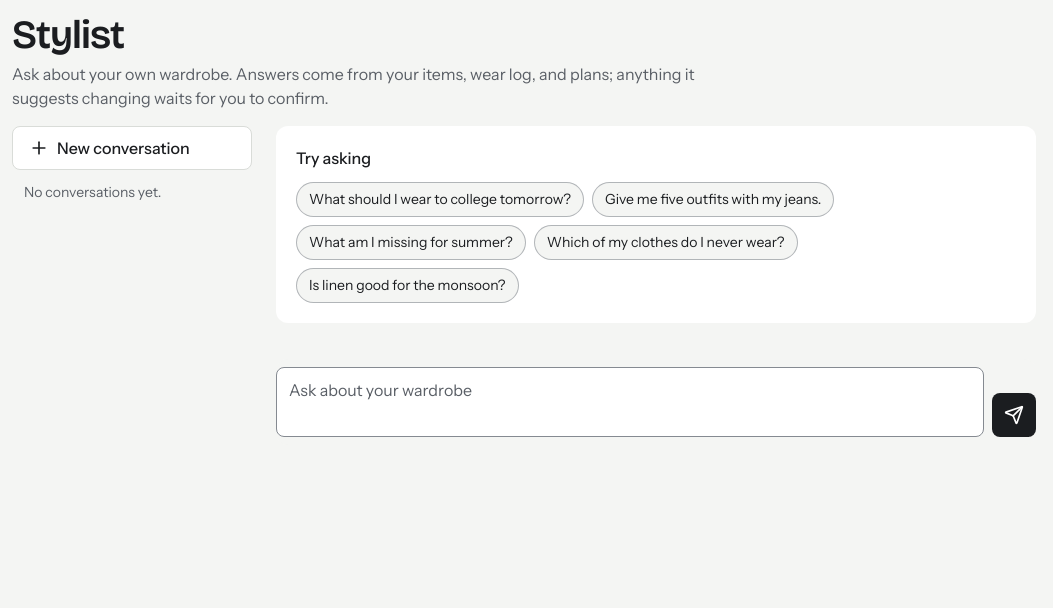
Scenario: asks, shows the answer with its cards, and confirms a proposal
Click the button "What should I wear to college tomorrow?" at (440, 200), box [296,182,584,217]
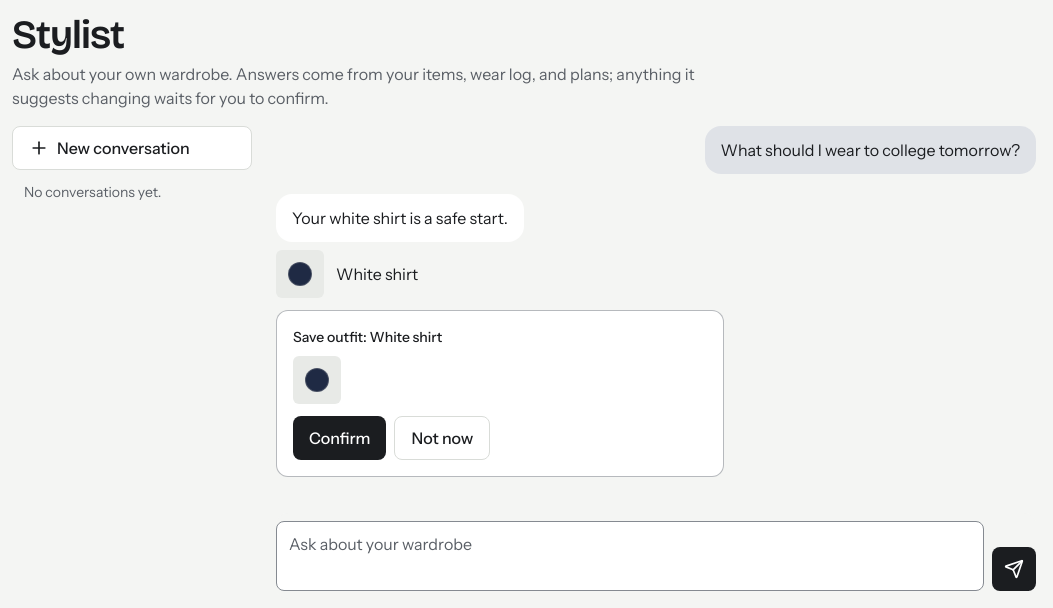
Result: the text "Your white shirt is a safe start." is shown at [276,194,524,242]
Click the button "Confirm" at (340, 438), box [293,416,386,460]
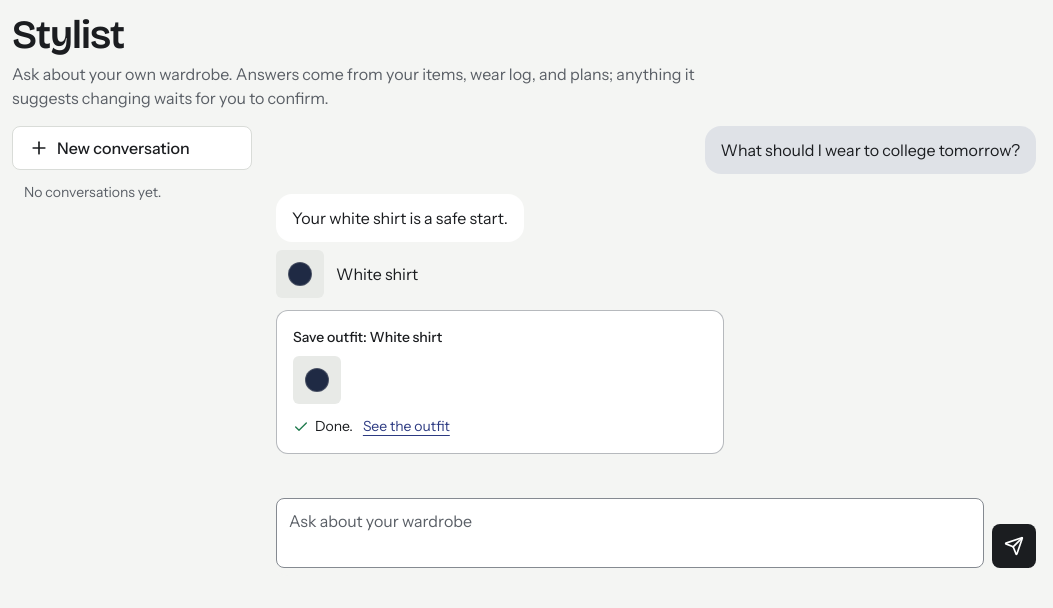
Result: the link "See the outfit" is shown at [363,416,450,437]
